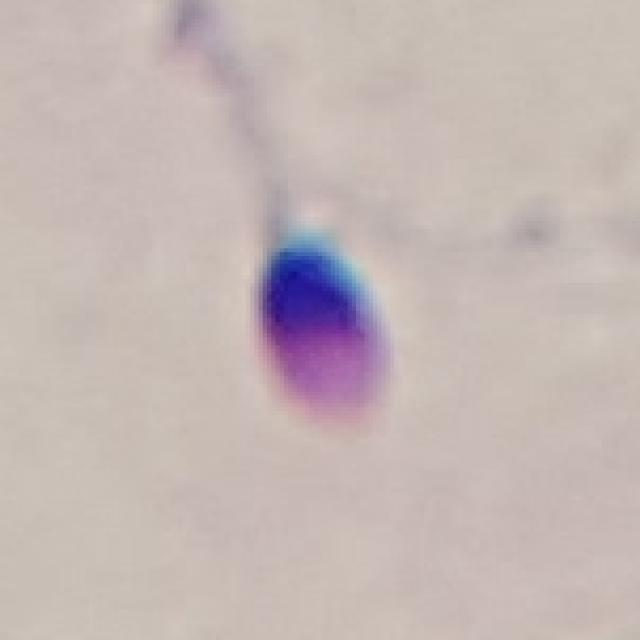normal sperm: (216, 101, 402, 435)
